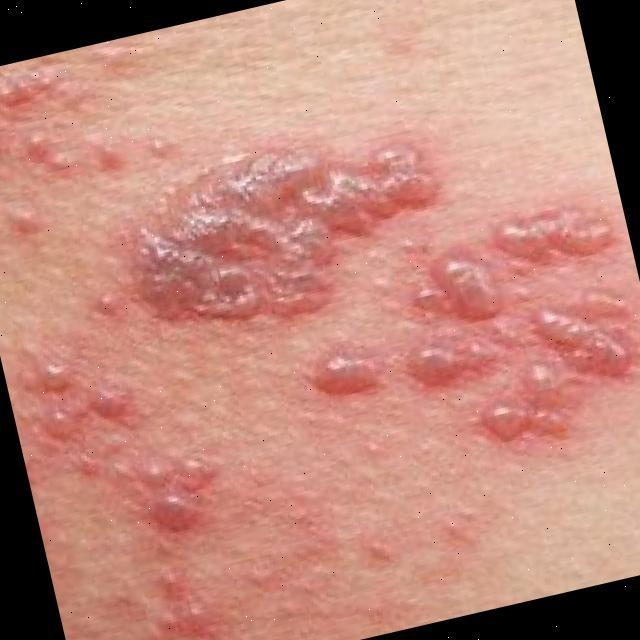Shingles: (302, 208, 638, 448), (0, 345, 217, 640), (128, 137, 440, 327), (0, 59, 160, 225)
